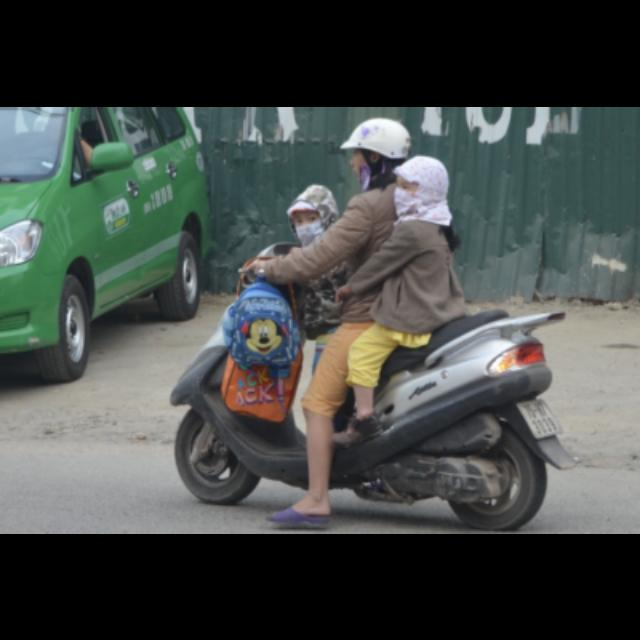With Helmet: (334, 110, 418, 178)
